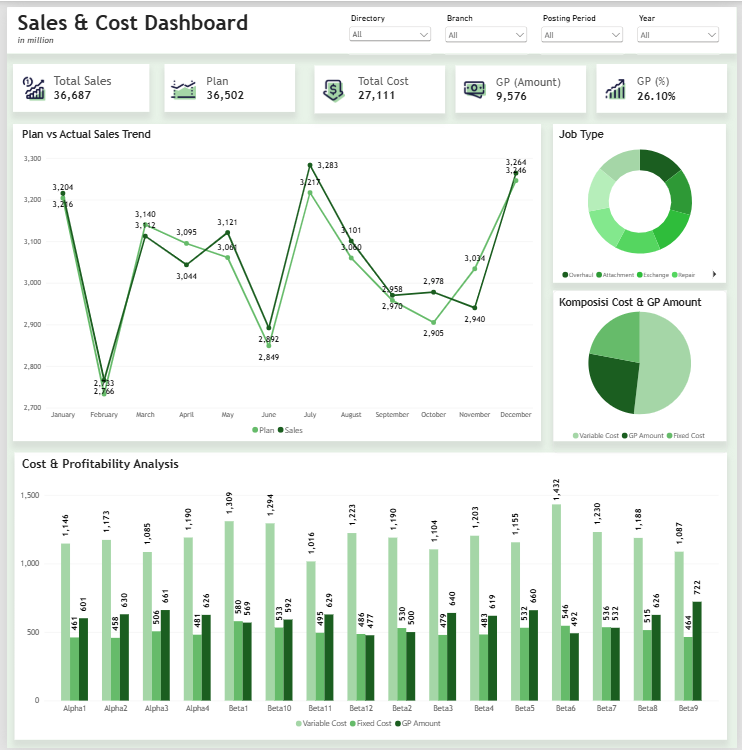

What the dashboard file says about the page in this screenshot:
{"tool":"powerbi","page":{"name":"Page 1","canvas":[1280,1300],"ordinal":0},"visuals":[{"type":"shape","box":[0,0,1280,81.7],"z":0},{"type":"shape","box":[1033.8,100,229.1,85.5],"z":0,"group":"g6"},{"type":"shape","box":[275,100,229.1,84.3],"z":1},{"type":"textbox","box":[17.8,5.6,445.6,58.9],"z":2},{"type":"cardVisual","title":"Total Sales","fields":{"Data":["PLAN.Plan"]},"box":[333.3,110,166.7,65],"z":3},{"type":"group","id":"g1","title":"Group 1","box":[595,10,660,71.7],"z":4},{"type":"image","box":[285.9,117.6,44.5,49.1],"z":5},{"type":"shape","box":[10.8,100.8,239.2,83.8],"z":6},{"type":"cardVisual","title":"Total Sales","fields":{"Data":["DATA.Total Revenue"]},"box":[66.7,111.7,183.3,64.4],"z":7},{"type":"image","box":[25.6,118.9,44.5,48.2],"z":8},{"type":"group","id":"g2","title":"Group 3","box":[786.2,102.5,228.8,82.5],"z":9},{"type":"group","id":"g3","title":"Group 4","box":[1033.8,100,228.8,85],"z":10},{"type":"shape","box":[958.3,205,303.3,278.3],"z":11},{"type":"shape","box":[12.5,782.5,1250,503.8],"z":12},{"type":"shape","box":[11.8,205.5,926.4,556.4],"z":13},{"type":"lineClusteredColumnComboChart","fields":{"Category":["DATA.Branch"],"Series":["STRUCTURE.Structure"],"Y":["STRUCTURE.Pie_Chart_Value"]},"box":[12,807,1251,479],"z":14},{"type":"textbox","box":[26,790,430,35],"z":15},{"type":"textbox","box":[26,214,283.3,40],"z":16},{"type":"textbox","box":[969.3,212.3,168.9,41.1],"z":17},{"type":"textbox","box":[18,47,102,35],"z":18},{"type":"group","id":"g4","title":"Group 6","box":[538.3,101.7,231.7,83.3],"z":19},{"type":"shape","box":[956.7,497.8,304.4,264.4],"z":20},{"type":"textbox","box":[968.9,507.8,290,30],"z":21},{"type":"pieChart","fields":{"Category":["STRUCTURE.Structure"],"Y":["STRUCTURE.Pie_Chart_Value"]},"box":[958.3,498.3,305,285],"z":22},{"type":"lineChart","fields":{"Category":["DATE DIM.Date.Variation.Date Hierarchy.Month"],"Y":["PLAN.Plan","DATA.Total Revenue"]},"box":[13.3,243.3,926.7,530],"z":23},{"type":"donutChart","fields":{"Category":["DATA.Job Type"],"Y":["DATA.Total Revenue"]},"box":[957.5,212.5,305,285],"z":24},{"type":"cardVisual","title":"Total Sales","fields":{"Data":["DATA.GP (%)"]},"box":[1089.3,110,173.6,66.4],"z":1000,"group":"g6"},{"type":"slicer","fields":{"Values":["DIRECTORY.Directory"]},"box":[595,10,155,73.3],"z":2000,"group":"g1"},{"type":"image","box":[1044.7,117.8,44.5,49.8],"z":2000,"group":"g6"},{"type":"slicer","fields":{"Values":["DIRECTORY.Branch"]},"box":[763,10,155,73],"z":3000,"group":"g1"},{"type":"slicer","fields":{"Values":["DATE DIM.Month No"]},"box":[932,10,155,73.3],"z":4000,"group":"g1"},{"type":"shape","box":[538.3,101.7,229.1,84.3],"z":4000,"group":"g4"},{"type":"slicer","fields":{"Values":["DATE DIM.Year"]},"box":[1100,10.3,155,73.3],"z":5000,"group":"g1"},{"type":"cardVisual","title":"Total Sales","fields":{"Data":["DATA.Total Cost"]},"box":[600,110.5,170,65],"z":7000,"group":"g4"},{"type":"shape","box":[786.2,102.5,229.1,82.7],"z":9000,"group":"g5"},{"type":"cardVisual","title":"Total Sales","fields":{"Data":["DATA.GP (Amount)"]},"box":[841.7,112.5,173.6,63.6],"z":10000,"group":"g5"},{"type":"image","box":[549.2,119.3,44.5,49.1],"z":10000,"group":"g4"},{"type":"image","box":[797.1,119.8,44.5,48.2],"z":11000,"group":"g5"},{"type":"group","id":"g5","title":"Group 8","box":[786.2,102.5,228.8,82.5],"z":20001,"group":"g2"},{"type":"group","id":"g6","title":"Group 7","box":[1033.8,100,228.8,85],"z":21006,"group":"g3"}]}

Visuals, with their boxes in screenshot pixels (x1, y1, x2, y2), scaled from the page's 1280x1300 canvas onto the 742x750 screenshot:
shape: x1=0 y1=0 x2=741 y2=47
shape: x1=599 y1=58 x2=732 y2=107
shape: x1=159 y1=58 x2=292 y2=106
textbox: x1=10 y1=3 x2=269 y2=37
"Total Sales" cardVisual: x1=193 y1=63 x2=290 y2=101
"Group 1" group: x1=345 y1=6 x2=728 y2=47
image: x1=166 y1=68 x2=192 y2=96
shape: x1=6 y1=58 x2=145 y2=106
"Total Sales" cardVisual: x1=39 y1=64 x2=145 y2=102
image: x1=15 y1=69 x2=41 y2=96
"Group 3" group: x1=456 y1=59 x2=588 y2=107
"Group 4" group: x1=599 y1=58 x2=732 y2=107
shape: x1=556 y1=118 x2=731 y2=279
shape: x1=7 y1=451 x2=732 y2=742
shape: x1=7 y1=119 x2=544 y2=440
lineClusteredColumnComboChart - DATA.Branch x STRUCTURE.Structure: x1=7 y1=466 x2=732 y2=742
textbox: x1=15 y1=456 x2=264 y2=476
textbox: x1=15 y1=123 x2=179 y2=147
textbox: x1=562 y1=122 x2=660 y2=146
textbox: x1=10 y1=27 x2=70 y2=47
"Group 6" group: x1=312 y1=59 x2=446 y2=107
shape: x1=555 y1=287 x2=731 y2=440
textbox: x1=562 y1=293 x2=730 y2=310
pieChart - STRUCTURE.Structure x STRUCTURE.Pie_Chart_Value: x1=556 y1=287 x2=732 y2=452
lineChart - DATE DIM.Date.Variation.Date Hierarchy.Month x PLAN.Plan: x1=8 y1=140 x2=545 y2=446
donutChart - DATA.Job Type x DATA.Total Revenue: x1=555 y1=123 x2=732 y2=287
"Total Sales" cardVisual: x1=631 y1=63 x2=732 y2=102
slicer - DIRECTORY.Directory: x1=345 y1=6 x2=435 y2=48
image: x1=606 y1=68 x2=631 y2=97
slicer - DIRECTORY.Branch: x1=442 y1=6 x2=532 y2=48
slicer - DATE DIM.Month No: x1=540 y1=6 x2=630 y2=48
shape: x1=312 y1=59 x2=445 y2=107
slicer - DATE DIM.Year: x1=638 y1=6 x2=728 y2=48
"Total Sales" cardVisual: x1=348 y1=64 x2=446 y2=101
shape: x1=456 y1=59 x2=589 y2=107
"Total Sales" cardVisual: x1=488 y1=65 x2=589 y2=102
image: x1=318 y1=69 x2=344 y2=97
image: x1=462 y1=69 x2=488 y2=97
"Group 8" group: x1=456 y1=59 x2=588 y2=107
"Group 7" group: x1=599 y1=58 x2=732 y2=107
